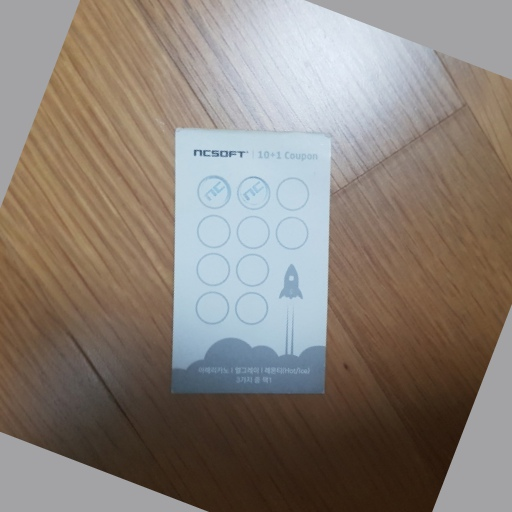Paper_2: (162, 112, 345, 396)
